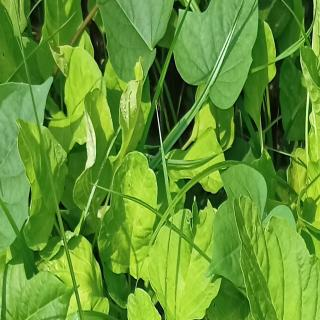karat_putih: (120, 84, 140, 132), (84, 115, 98, 174)
virus_keriting: (247, 197, 281, 241), (180, 197, 200, 236)
